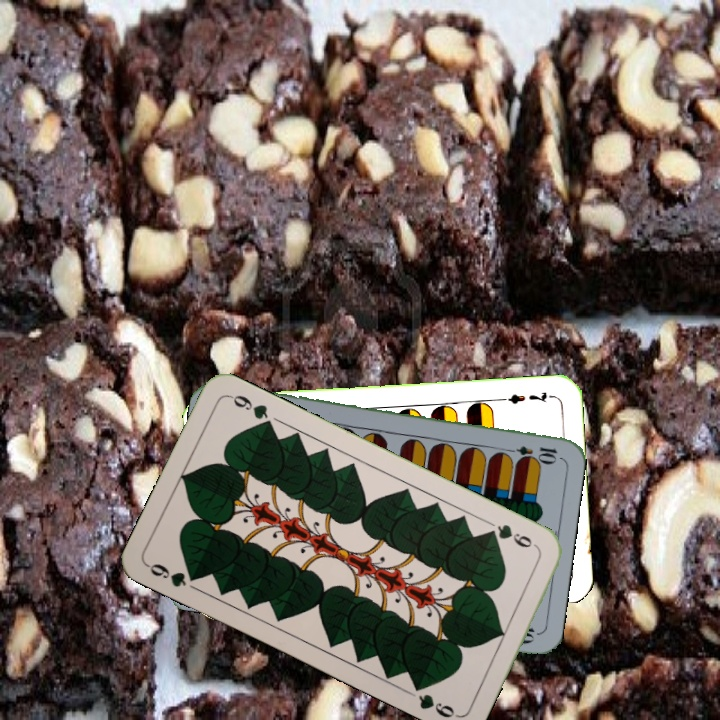E10: (500, 441, 560, 463)
E7: (497, 387, 556, 407)
G9: (482, 520, 541, 553), (143, 559, 203, 590)
